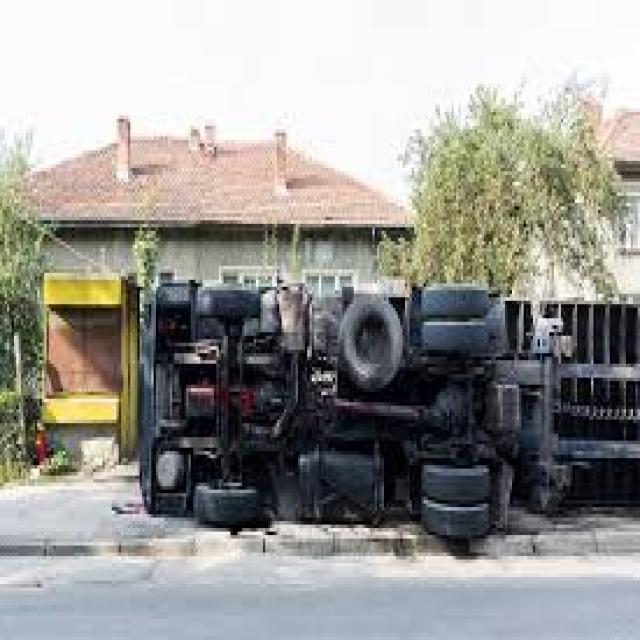accident: (37, 195, 640, 556)
